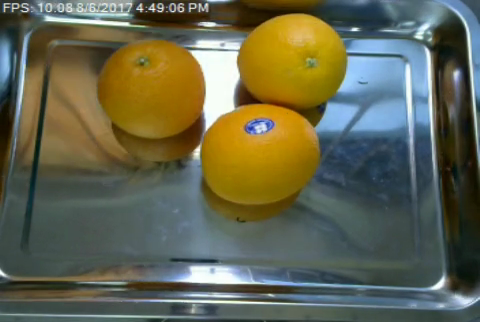Orange: (201, 105, 321, 204), (235, 12, 348, 107), (96, 39, 204, 138)
